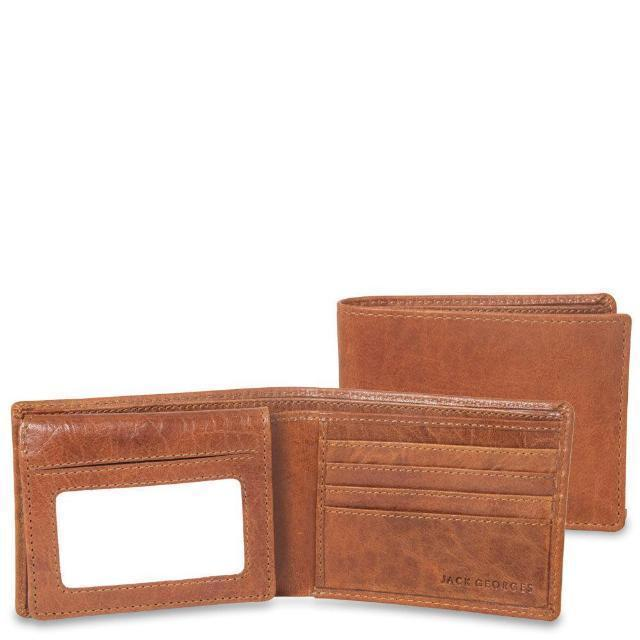wallet: (8, 380, 570, 628), (332, 294, 630, 538)
